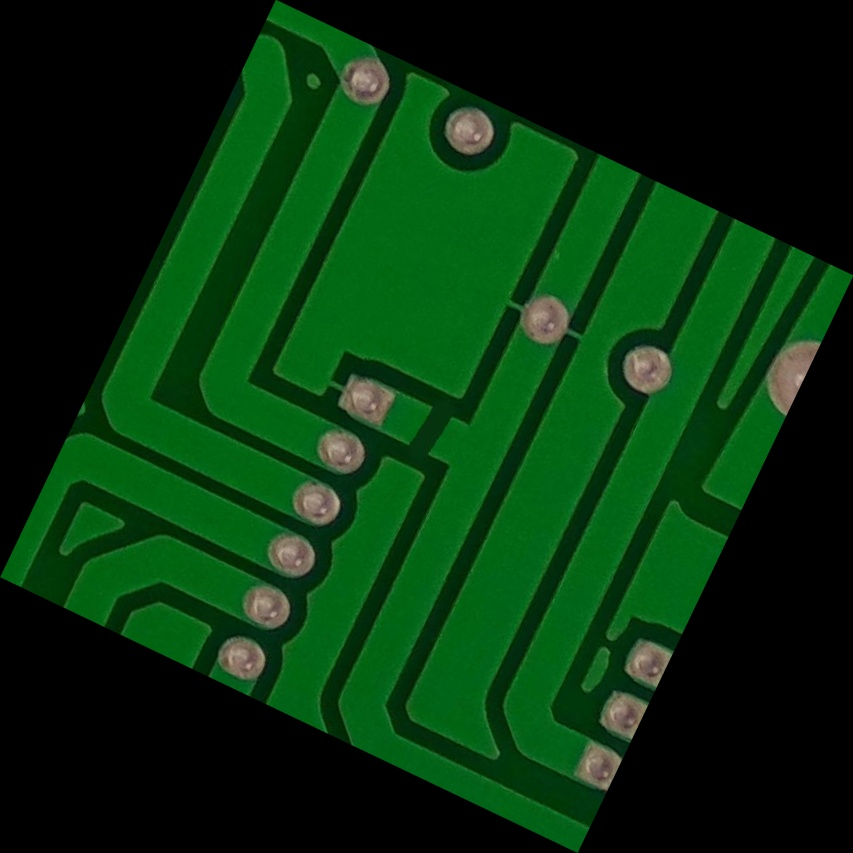open_circuit: (387, 384, 466, 470)
